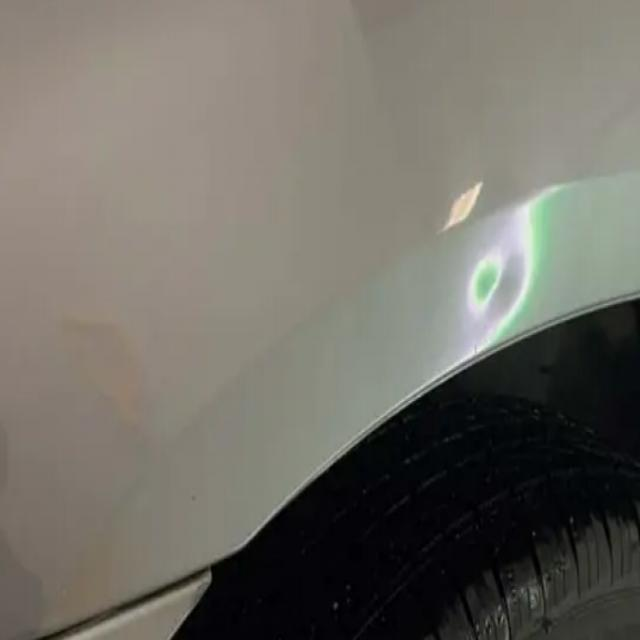dents: (460, 222, 537, 340)
